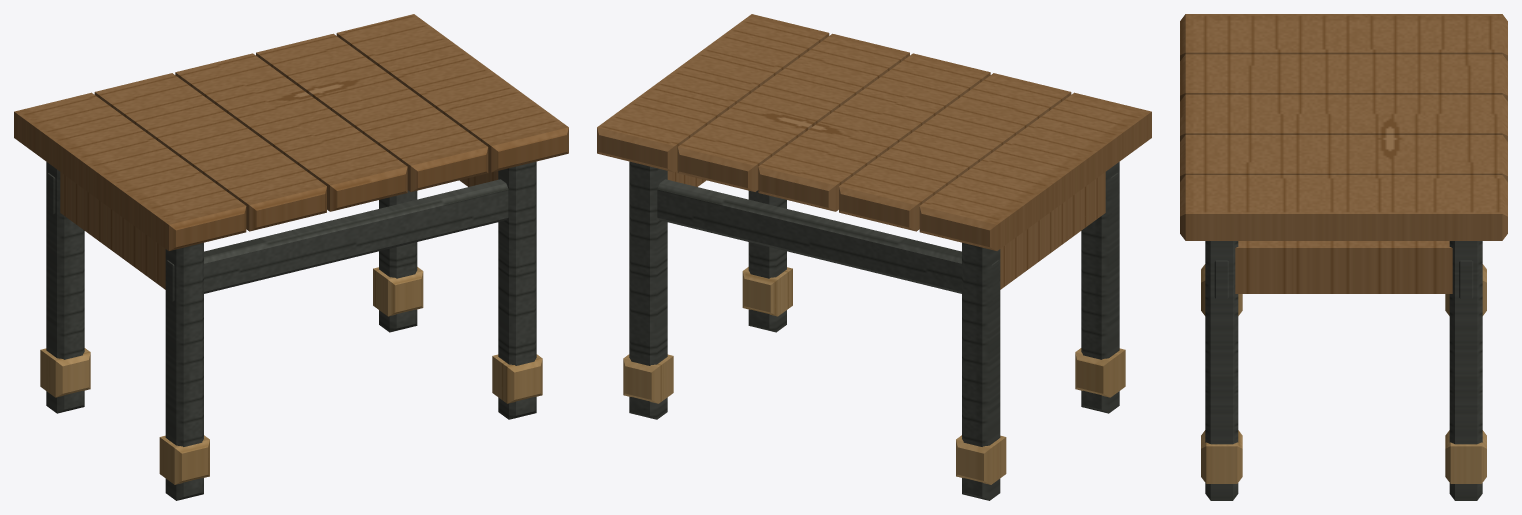
Rendered from LowTable.fbx.
The picture shows the model from 3 angles, left to right: view 1: azimuth 30°, elevation 25°; view 2: azimuth 150°, elevation 25°; view 3: azimuth 270°, elevation 25°; orthographic projection. The views are drawn at different scales.
Parts seen in each view (by area): view 1: Body__Timber, Body__TimberDark, Body__TimberLight; view 2: Body__Timber, Body__TimberDark, Body__TimberLight; view 3: Body__Timber, Body__TimberDark, Body__TimberLight.
Boxes of the visible parts, box(x1,y1,x2,y2) form: Body__Timber: box(14, 14, 568, 289); Body__TimberDark: box(46, 161, 536, 500); Body__TimberLight: box(40, 267, 542, 484); Body__Timber: box(597, 14, 1151, 289); Body__TimberDark: box(629, 161, 1119, 500); Body__TimberLight: box(623, 267, 1125, 484); Body__Timber: box(1180, 14, 1507, 293); Body__TimberDark: box(1205, 241, 1482, 500); Body__TimberLight: box(1201, 264, 1486, 483).
Bounding box in the file's own units: 0.794 × 0.55 × 0.55.
Materials: 1 (1 with a texture image).
